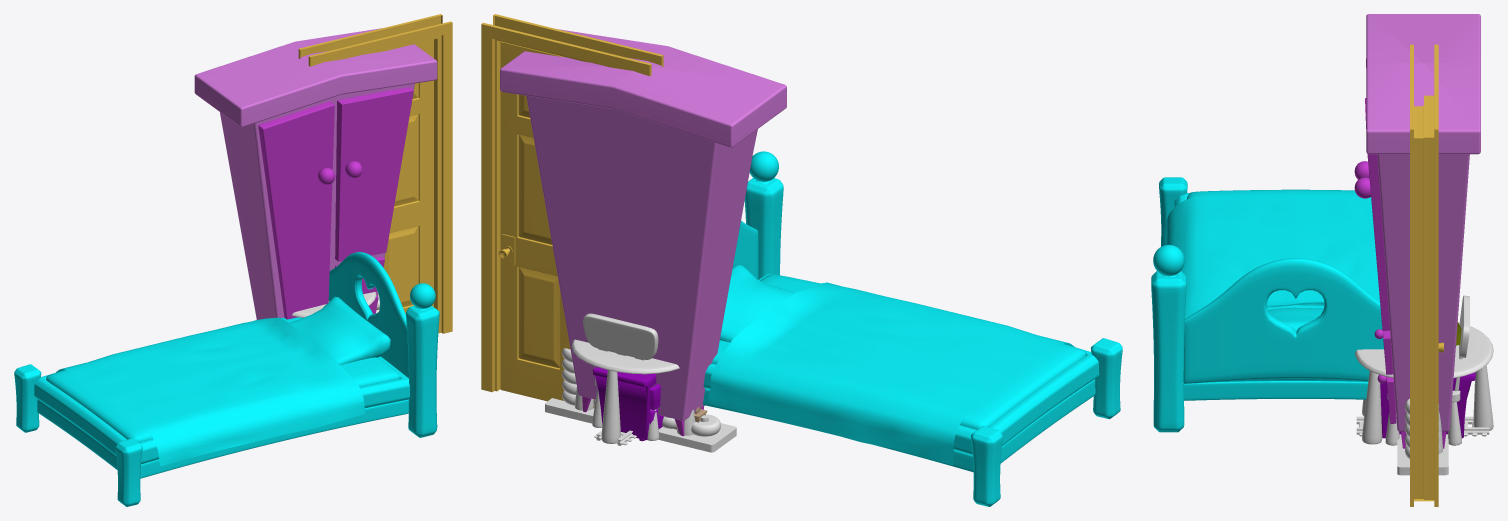
The model's file is Kitbash_Kinder_Zimmer.fbx.
The picture shows the model from 3 angles, left to right: view 1: azimuth 30°, elevation 25°; view 2: azimuth 150°, elevation 25°; view 3: azimuth 270°, elevation 25°; orthographic projection. The views are drawn at different scales.
Parts seen in each view (by area): view 1: Bett, Wardrobe, Tuer Rahmen, Tuer; view 2: Wardrobe, Bett, Tuer, Tuer Rahmen, Kinder_Table, Torus_Toy, Kinder_Chair, Bed_Stand; view 3: Bett, Wardrobe, Tuer Rahmen, Kinder_Table, Kinder_Chair, Torus_Toy, Bed_Stand, rail_long, Tuer.
Boxes of the visible parts, x1=… form: Bett: x1=14, y1=252, x2=439, y2=506; Wardrobe: x1=194, y1=28, x2=437, y2=319; Tuer Rahmen: x1=298, y1=14, x2=452, y2=333; Tuer: x1=378, y1=39, x2=433, y2=313; Wardrobe: x1=500, y1=29, x2=786, y2=436; Bett: x1=703, y1=151, x2=1122, y2=506; Tuer: x1=498, y1=41, x2=594, y2=407; Tuer Rahmen: x1=481, y1=14, x2=663, y2=392; Kinder_Table: x1=571, y1=339, x2=695, y2=443; Torus_Toy: x1=545, y1=348, x2=736, y2=452; Kinder_Chair: x1=583, y1=313, x2=659, y2=440; Bed_Stand: x1=592, y1=367, x2=663, y2=441; Bett: x1=1151, y1=177, x2=1383, y2=432; Wardrobe: x1=1354, y1=14, x2=1480, y2=448; Tuer Rahmen: x1=1410, y1=44, x2=1438, y2=506; Kinder_Table: x1=1355, y1=323, x2=1493, y2=453; Kinder_Chair: x1=1385, y1=295, x2=1469, y2=445; Torus_Toy: x1=1397, y1=398, x2=1448, y2=475; Bed_Stand: x1=1380, y1=372, x2=1475, y2=438; rail_long: x1=1356, y1=416, x2=1489, y2=436; Tuer: x1=1423, y1=105, x2=1443, y2=498.
Bounding box in the file's own units: 301 × 212 × 170.
